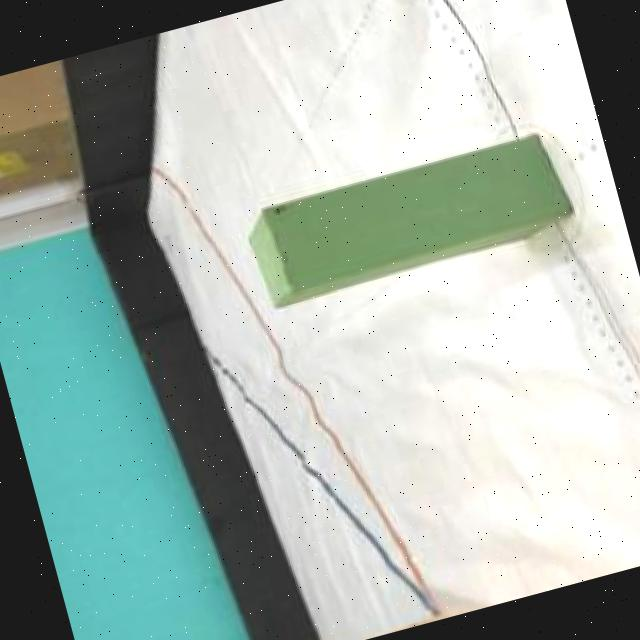greenbox: (237, 126, 574, 307)
